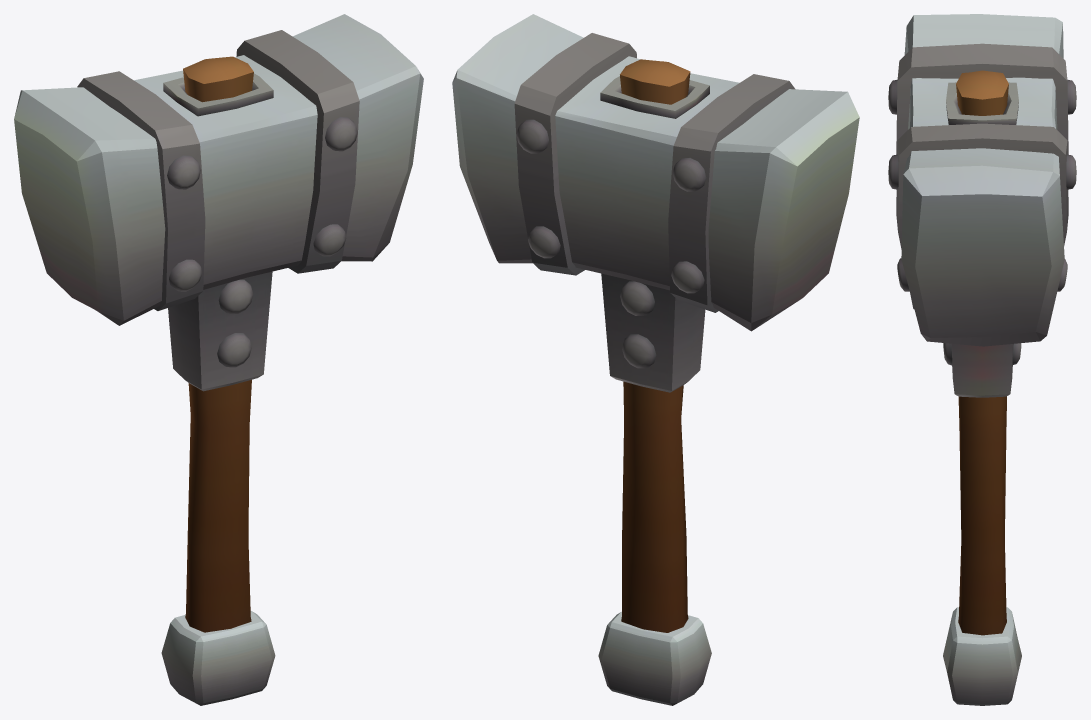
Rendered from Hammer_06.glb.
3 renders of one model, left to right at view 1: azimuth 30°, elevation 25°; view 2: azimuth 150°, elevation 25°; view 3: azimuth 270°, elevation 25°, orthographic. The views are drawn at different scales.
Visible parts, largest first — view 1: Hammer_06; view 2: Hammer_06; view 3: Hammer_06.
Part boxes in pixels (x1,y1,x2,y2): Hammer_06: (14, 14, 423, 705); Hammer_06: (452, 14, 859, 705); Hammer_06: (888, 14, 1076, 705).
Bounding box in the file's own units: 0.6368 × 1.08 × 0.301.
Materials: 1 (1 with a texture image).
